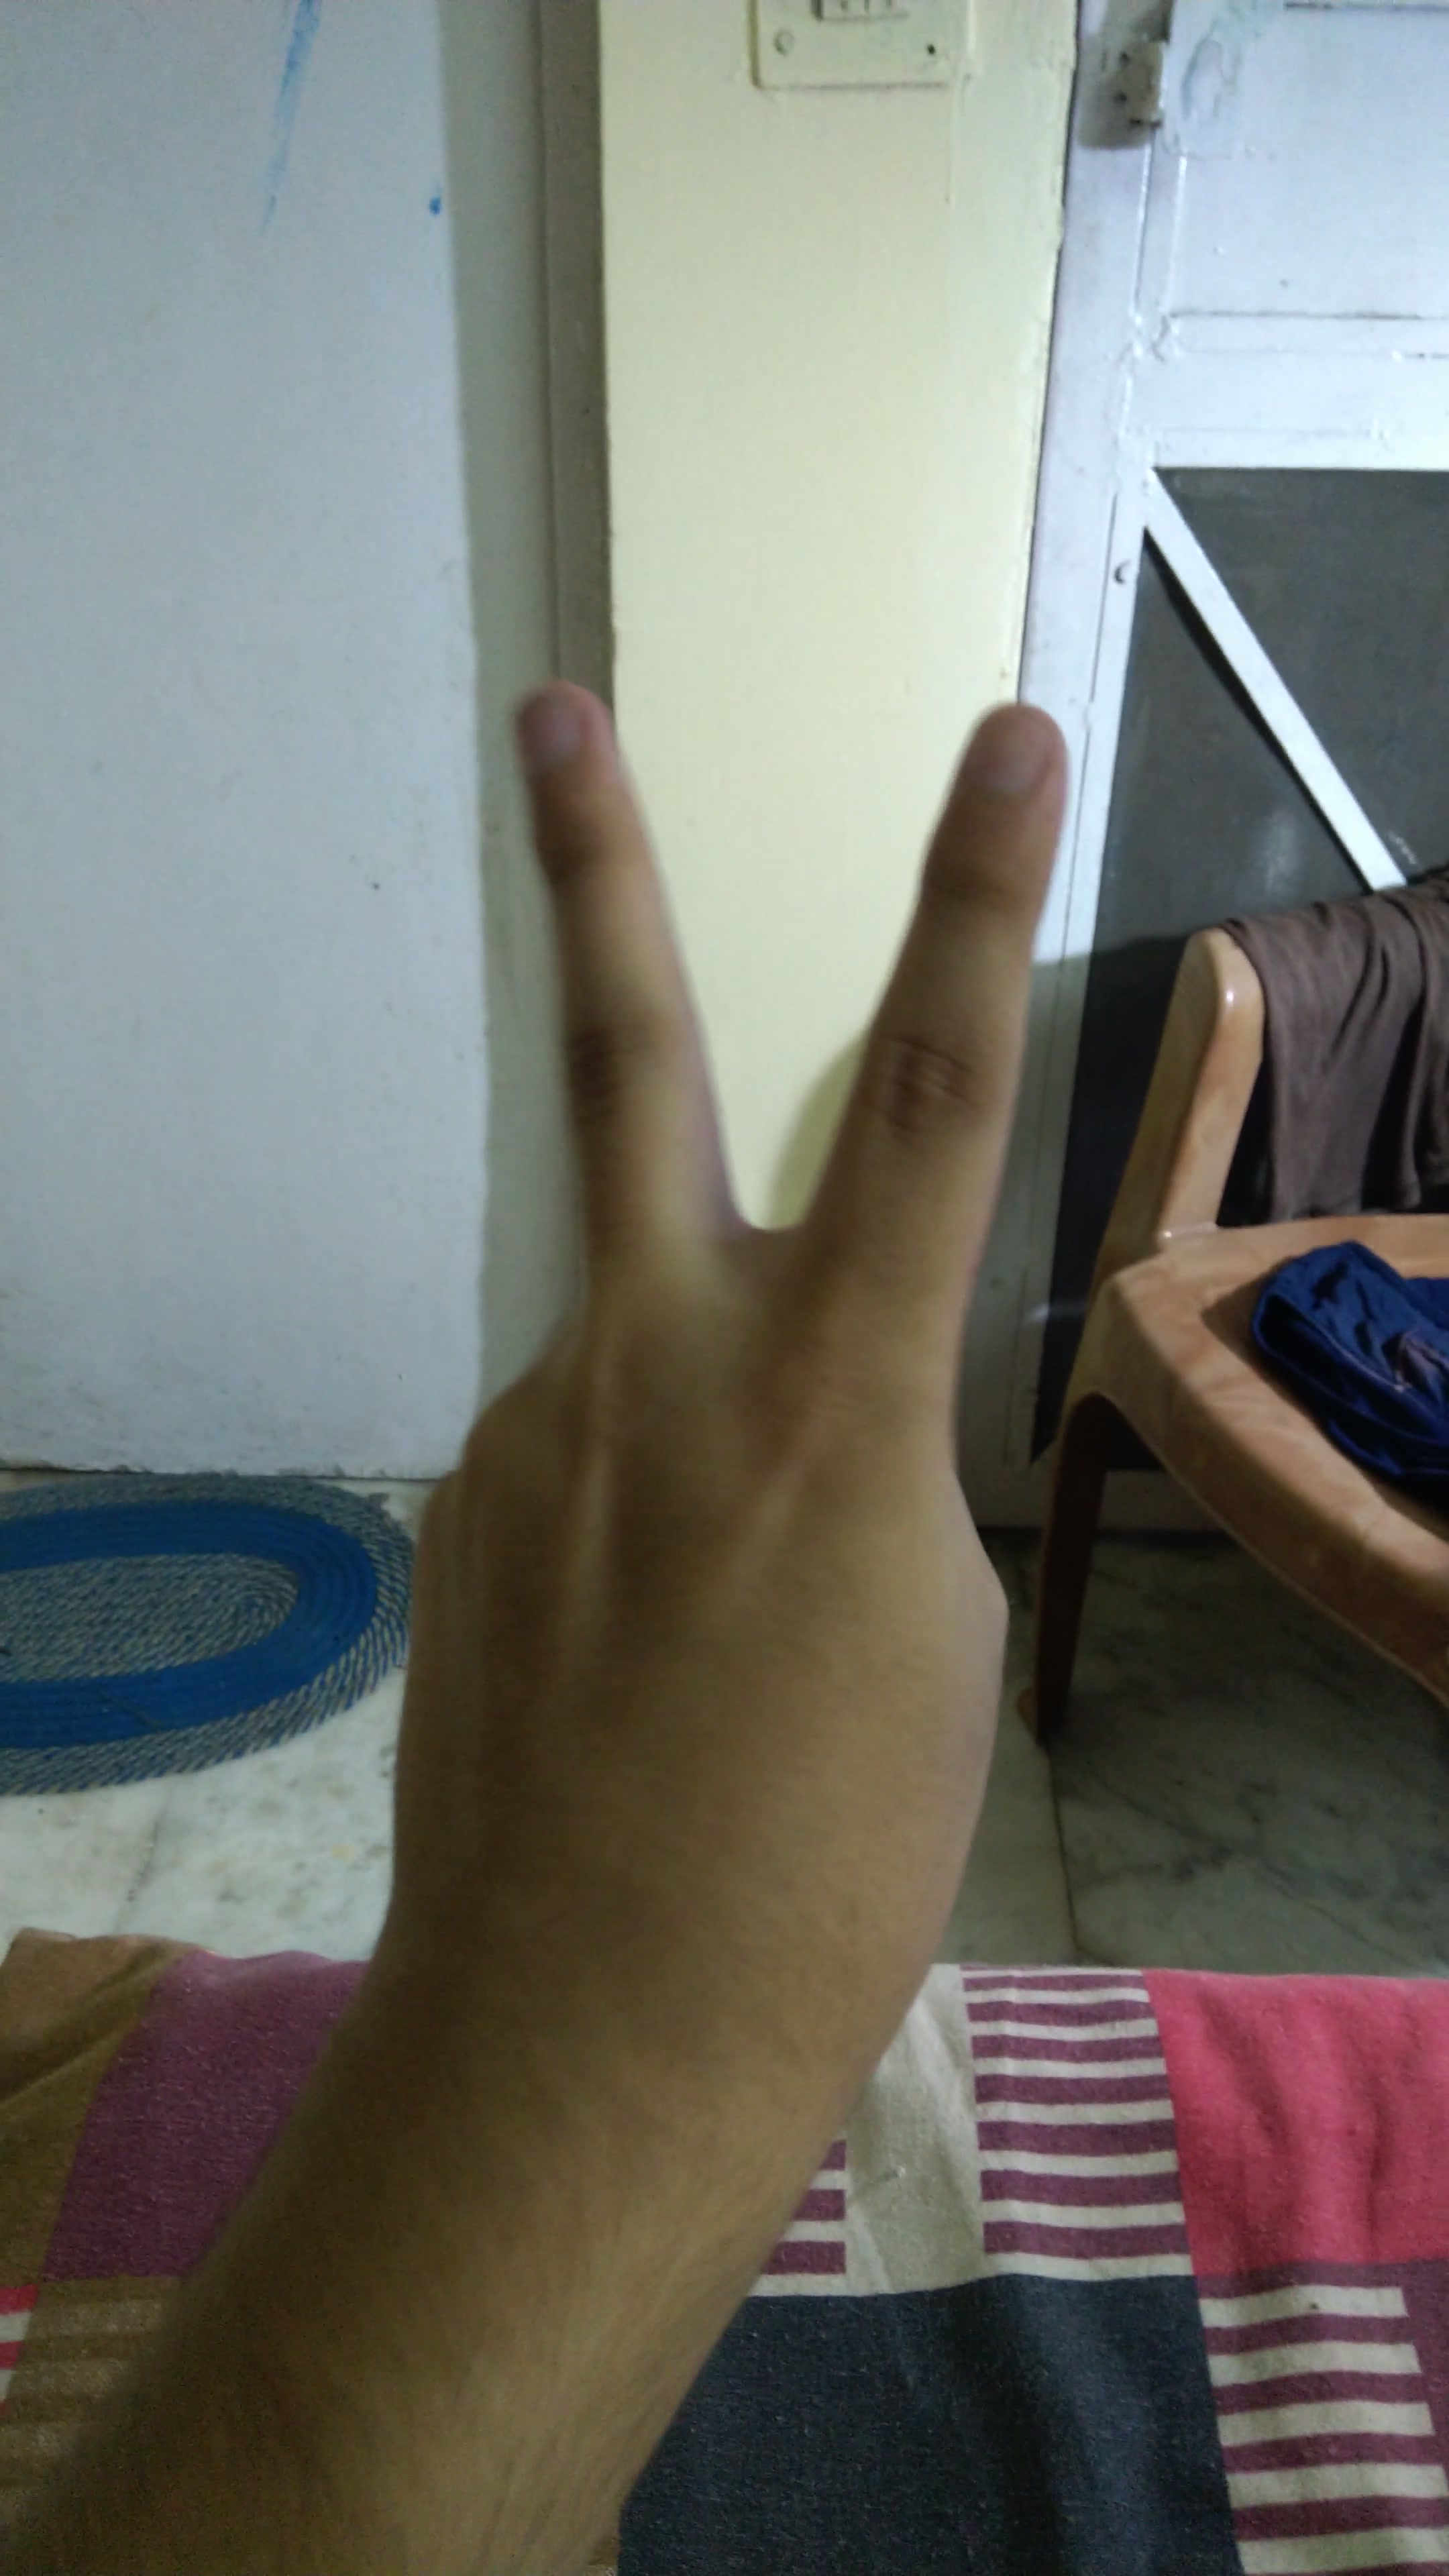hand: (283, 648, 1072, 2019)
